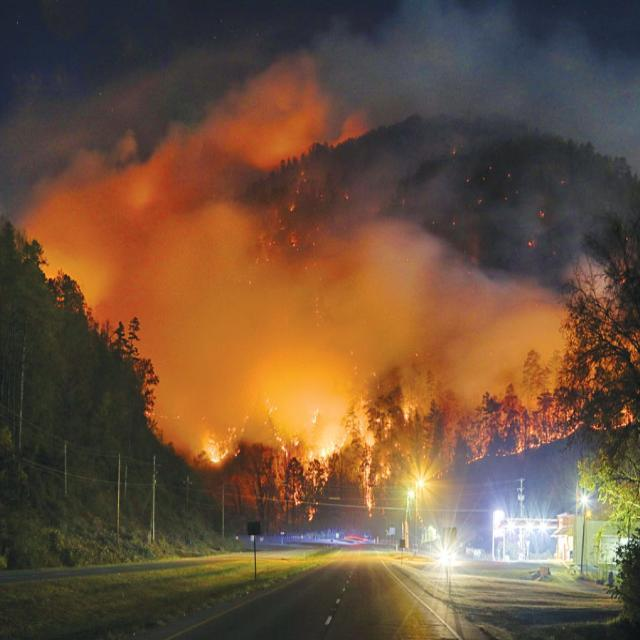Smoke: (19, 0, 618, 477)
